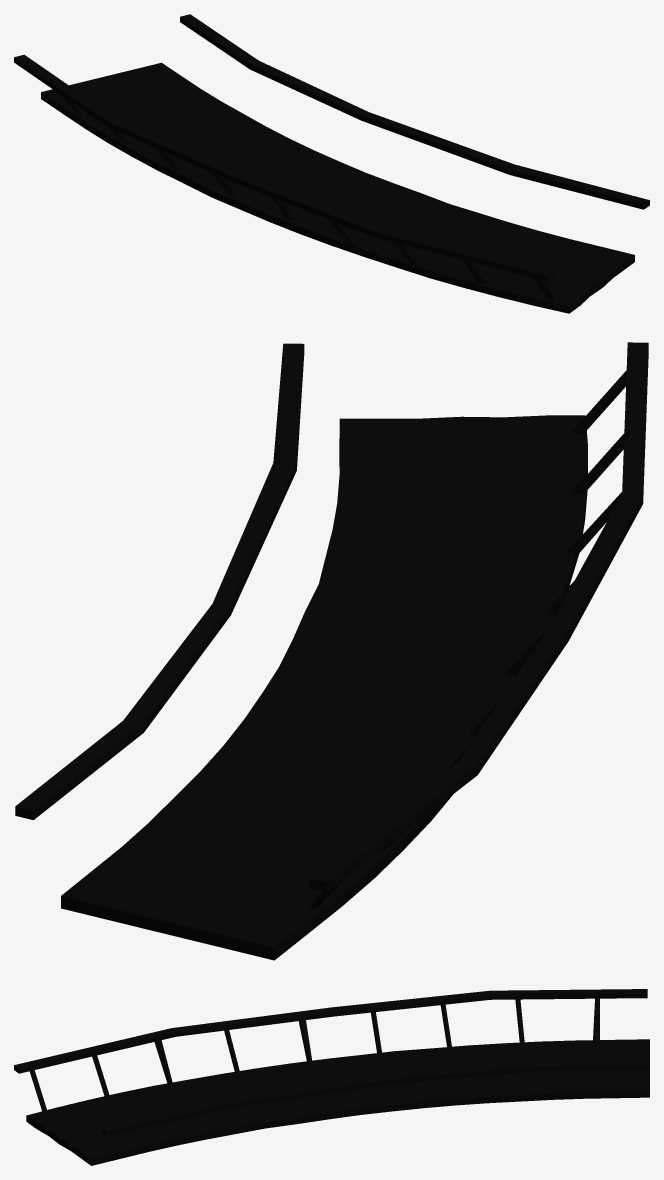
Rendered from BridgeA.glb.
3 views of the same model, one above another, from view 1: azimuth 30°, elevation 25°; view 2: azimuth 150°, elevation 25°; view 3: azimuth 270°, elevation 25° (orthographic). The views are drawn at different scales.
Parts seen in each view (by area): view 1: BridgeA; view 2: BridgeA; view 3: BridgeA.
Part boxes in pixels (x1,y1,x2,y2): BridgeA: (14,14,649,313); BridgeA: (15,342,648,960); BridgeA: (14,989,649,1165).
Bounding box in the file's own units: 145 × 21 × 274.
Materials: 1 (1 with a texture image).
